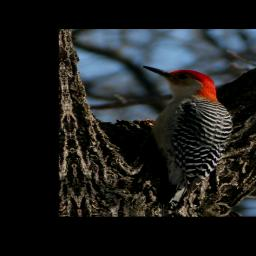Woodpecker: (125, 60, 246, 211)
